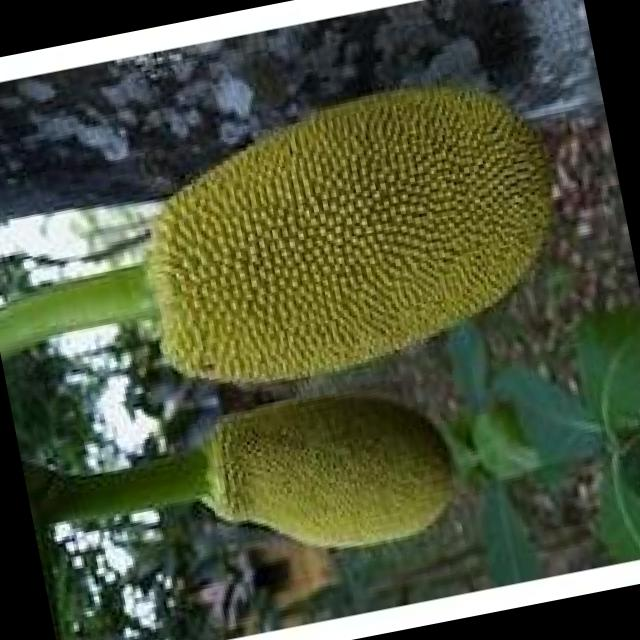Fruit: (90, 27, 635, 450), (185, 348, 484, 587)
